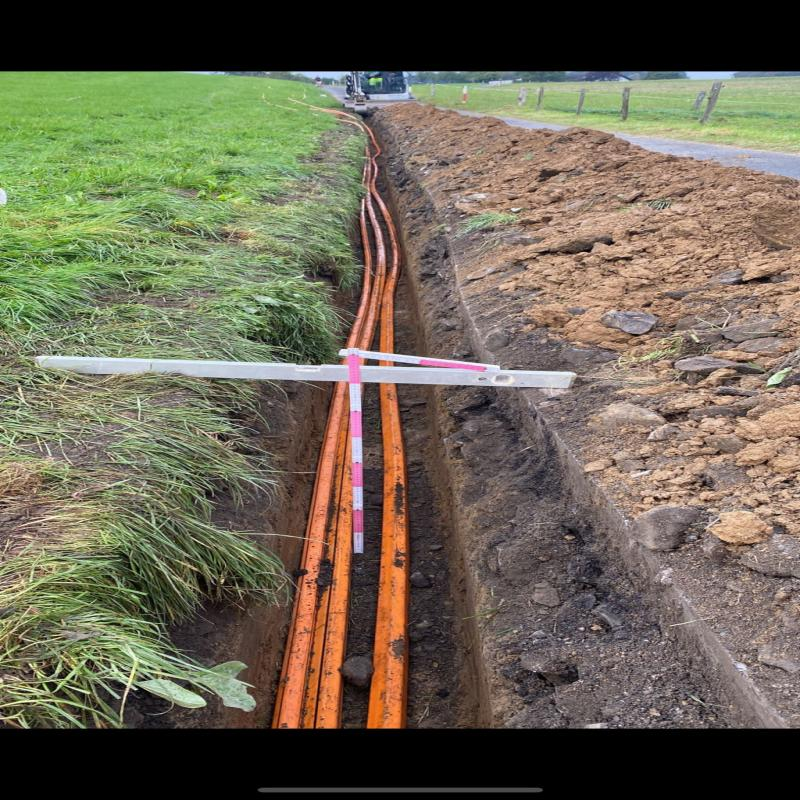Orang-Speednetrohrchen: (274, 381, 353, 729), (370, 382, 405, 728), (349, 213, 400, 353)
